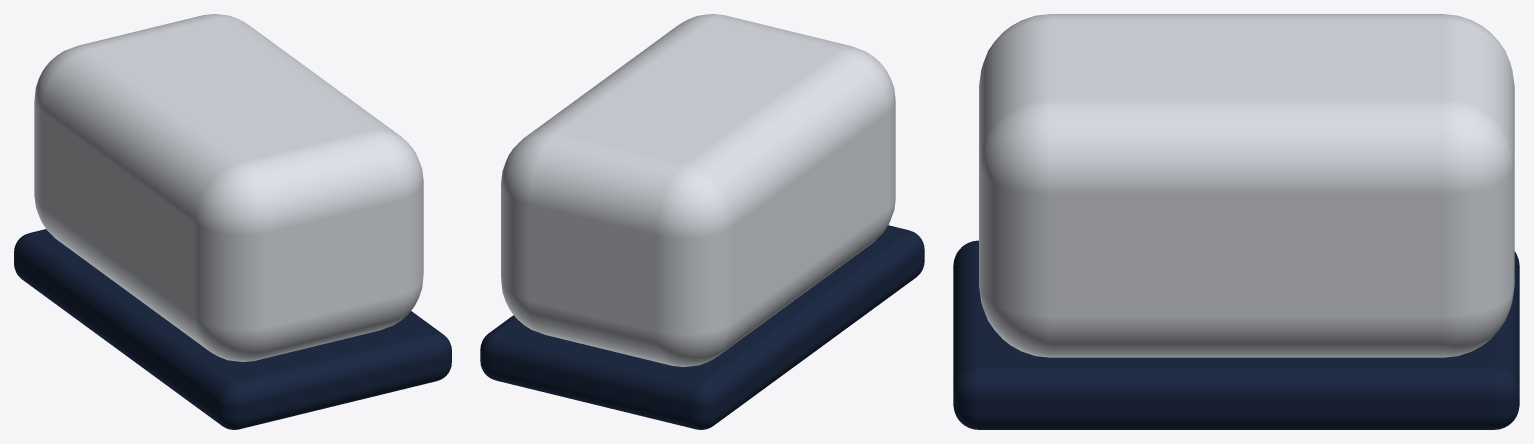
The picture shows the model from 3 angles, left to right: view 1: azimuth 30°, elevation 25°; view 2: azimuth 150°, elevation 25°; view 3: azimuth 270°, elevation 25°; orthographic projection. The views are drawn at different scales.
Parts seen in each view (by area): view 1: feet.high-top-trainers.upper-l, feet.high-top-trainers.sole-l; view 2: feet.high-top-trainers.upper-l, feet.high-top-trainers.sole-l; view 3: feet.high-top-trainers.upper-l, feet.high-top-trainers.sole-l.
Boxes of the visible parts, x1,y1,x2,y2 form: feet.high-top-trainers.upper-l: (34, 14, 423, 361); feet.high-top-trainers.sole-l: (14, 229, 451, 429); feet.high-top-trainers.upper-l: (501, 14, 895, 366); feet.high-top-trainers.sole-l: (480, 225, 924, 429); feet.high-top-trainers.upper-l: (979, 14, 1514, 357); feet.high-top-trainers.sole-l: (953, 240, 1519, 429).
Bounding box in the file's own units: 0.335 × 0.3275 × 0.55.
